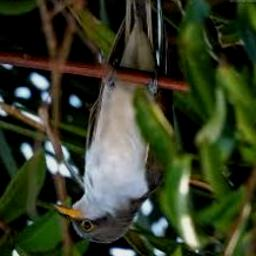Cuckoo: (54, 0, 173, 243)
